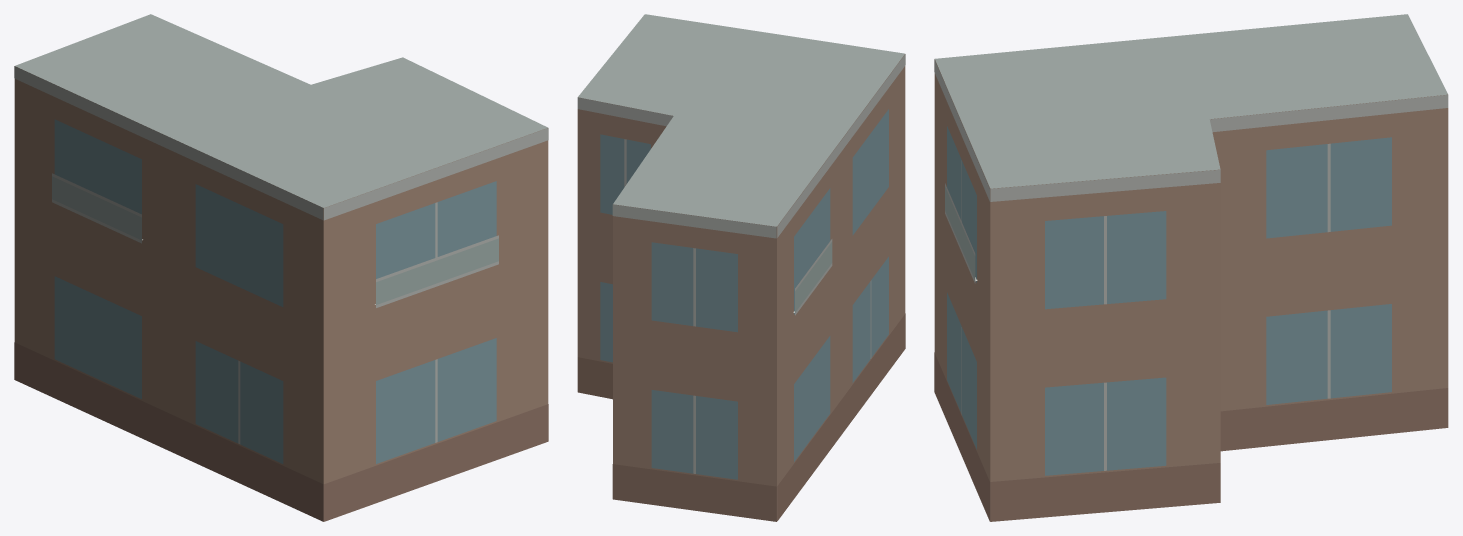
File: survey-upis-32602831.glb
3 views of the same model, side by side, from view 1: azimuth 30°, elevation 25°; view 2: azimuth 150°, elevation 25°; view 3: azimuth 270°, elevation 25° (orthographic). The views are drawn at different scales.
Visible parts, largest first — view 1: survey-upis-32602831.tmp; view 2: survey-upis-32602831.tmp; view 3: survey-upis-32602831.tmp.
Boxes of the visible parts, <box> form: survey-upis-32602831.tmp: <box>14,14,548,521</box>; survey-upis-32602831.tmp: <box>577,14,905,521</box>; survey-upis-32602831.tmp: <box>934,14,1448,521</box>.
Size of the model in its own units: 6.87 by 6.1 by 8.54.
